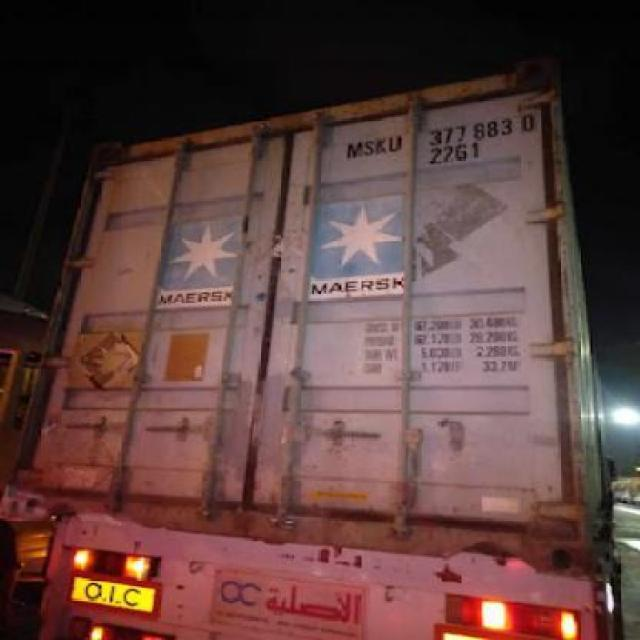ISO: (429, 140, 478, 166)
container_number: (344, 106, 542, 158)
